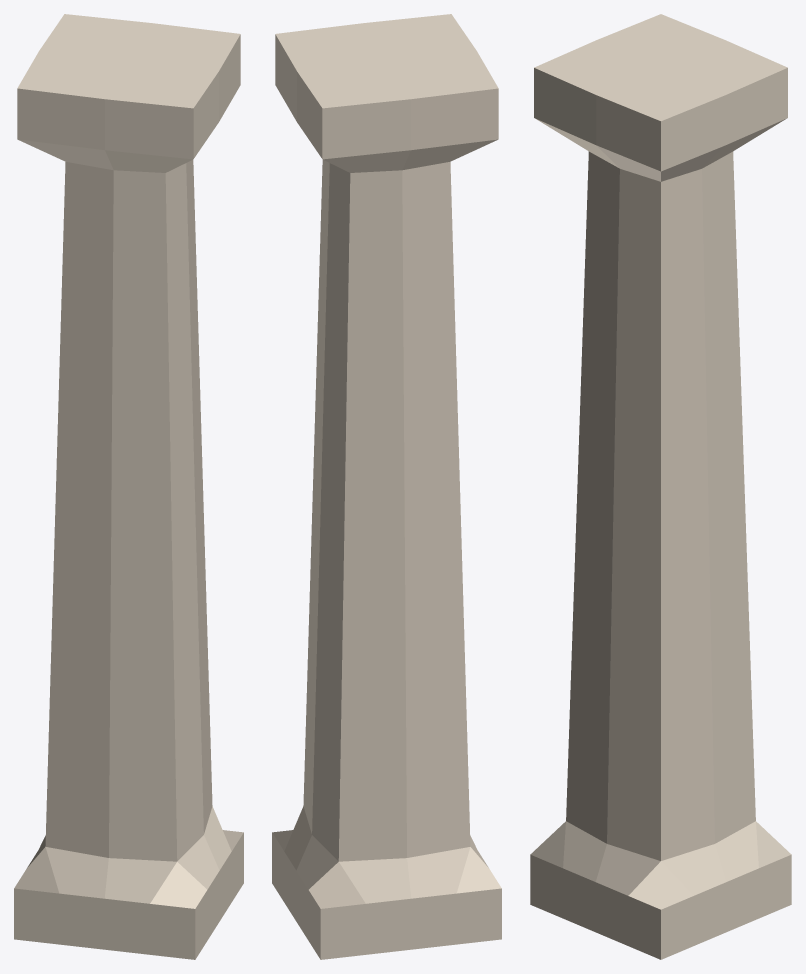
The model's file is piller.fbx.
3 views of the same model, side by side, from view 1: azimuth 30°, elevation 25°; view 2: azimuth 150°, elevation 25°; view 3: azimuth 270°, elevation 25° (orthographic).
Visible parts, largest first — view 1: assets.093; view 2: assets.093; view 3: assets.093.
Boxes of the visible parts, x1,y1,x2,y2 form: assets.093: (14, 14, 243, 959); assets.093: (272, 14, 501, 959); assets.093: (530, 14, 791, 959).
Bounding box in the file's own units: 283 × 1000 × 283.
